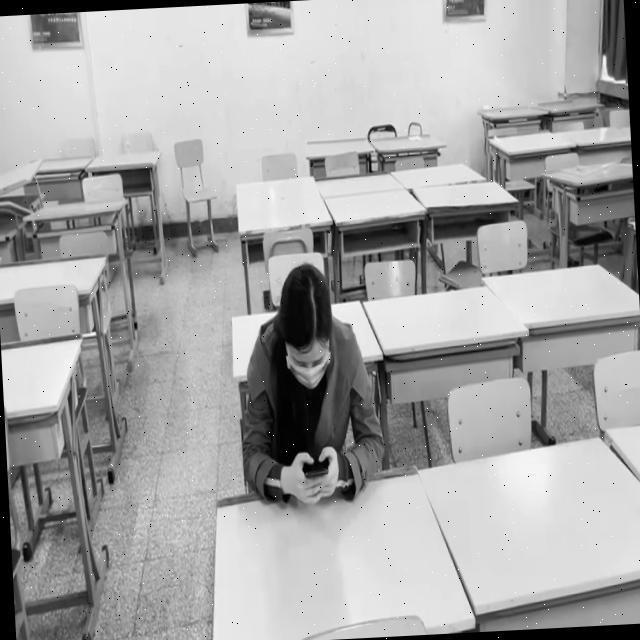phone: (232, 263, 387, 508)
